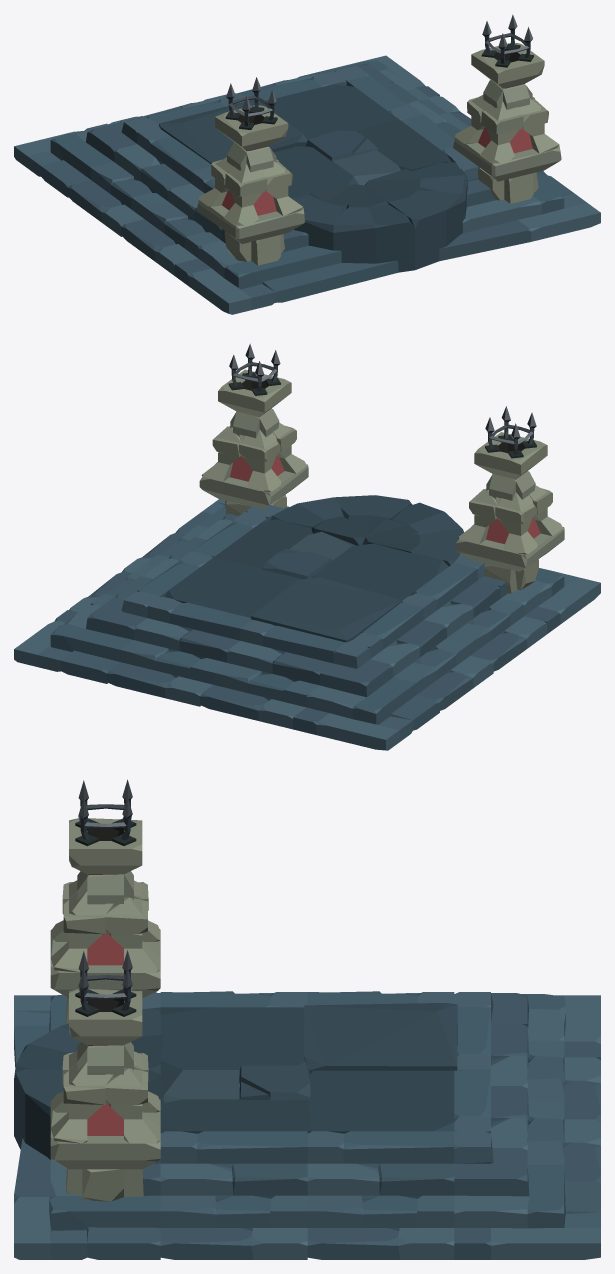
Rendered from level_element_platform_large_02.fbx.
3 renders of one model, top to bottom at view 1: azimuth 30°, elevation 25°; view 2: azimuth 150°, elevation 25°; view 3: azimuth 270°, elevation 25°, orthographic. The views are drawn at different scales.
Parts seen in each view (by area): view 1: level_element_platform_large_02; view 2: level_element_platform_large_02; view 3: level_element_platform_large_02.
Boxes of the visible parts, x1,y1,x2,y2 form: level_element_platform_large_02: (14, 14, 600, 314); level_element_platform_large_02: (14, 343, 600, 750); level_element_platform_large_02: (14, 779, 600, 1259).
Bounding box in the file's own units: 800 × 398 × 800.
